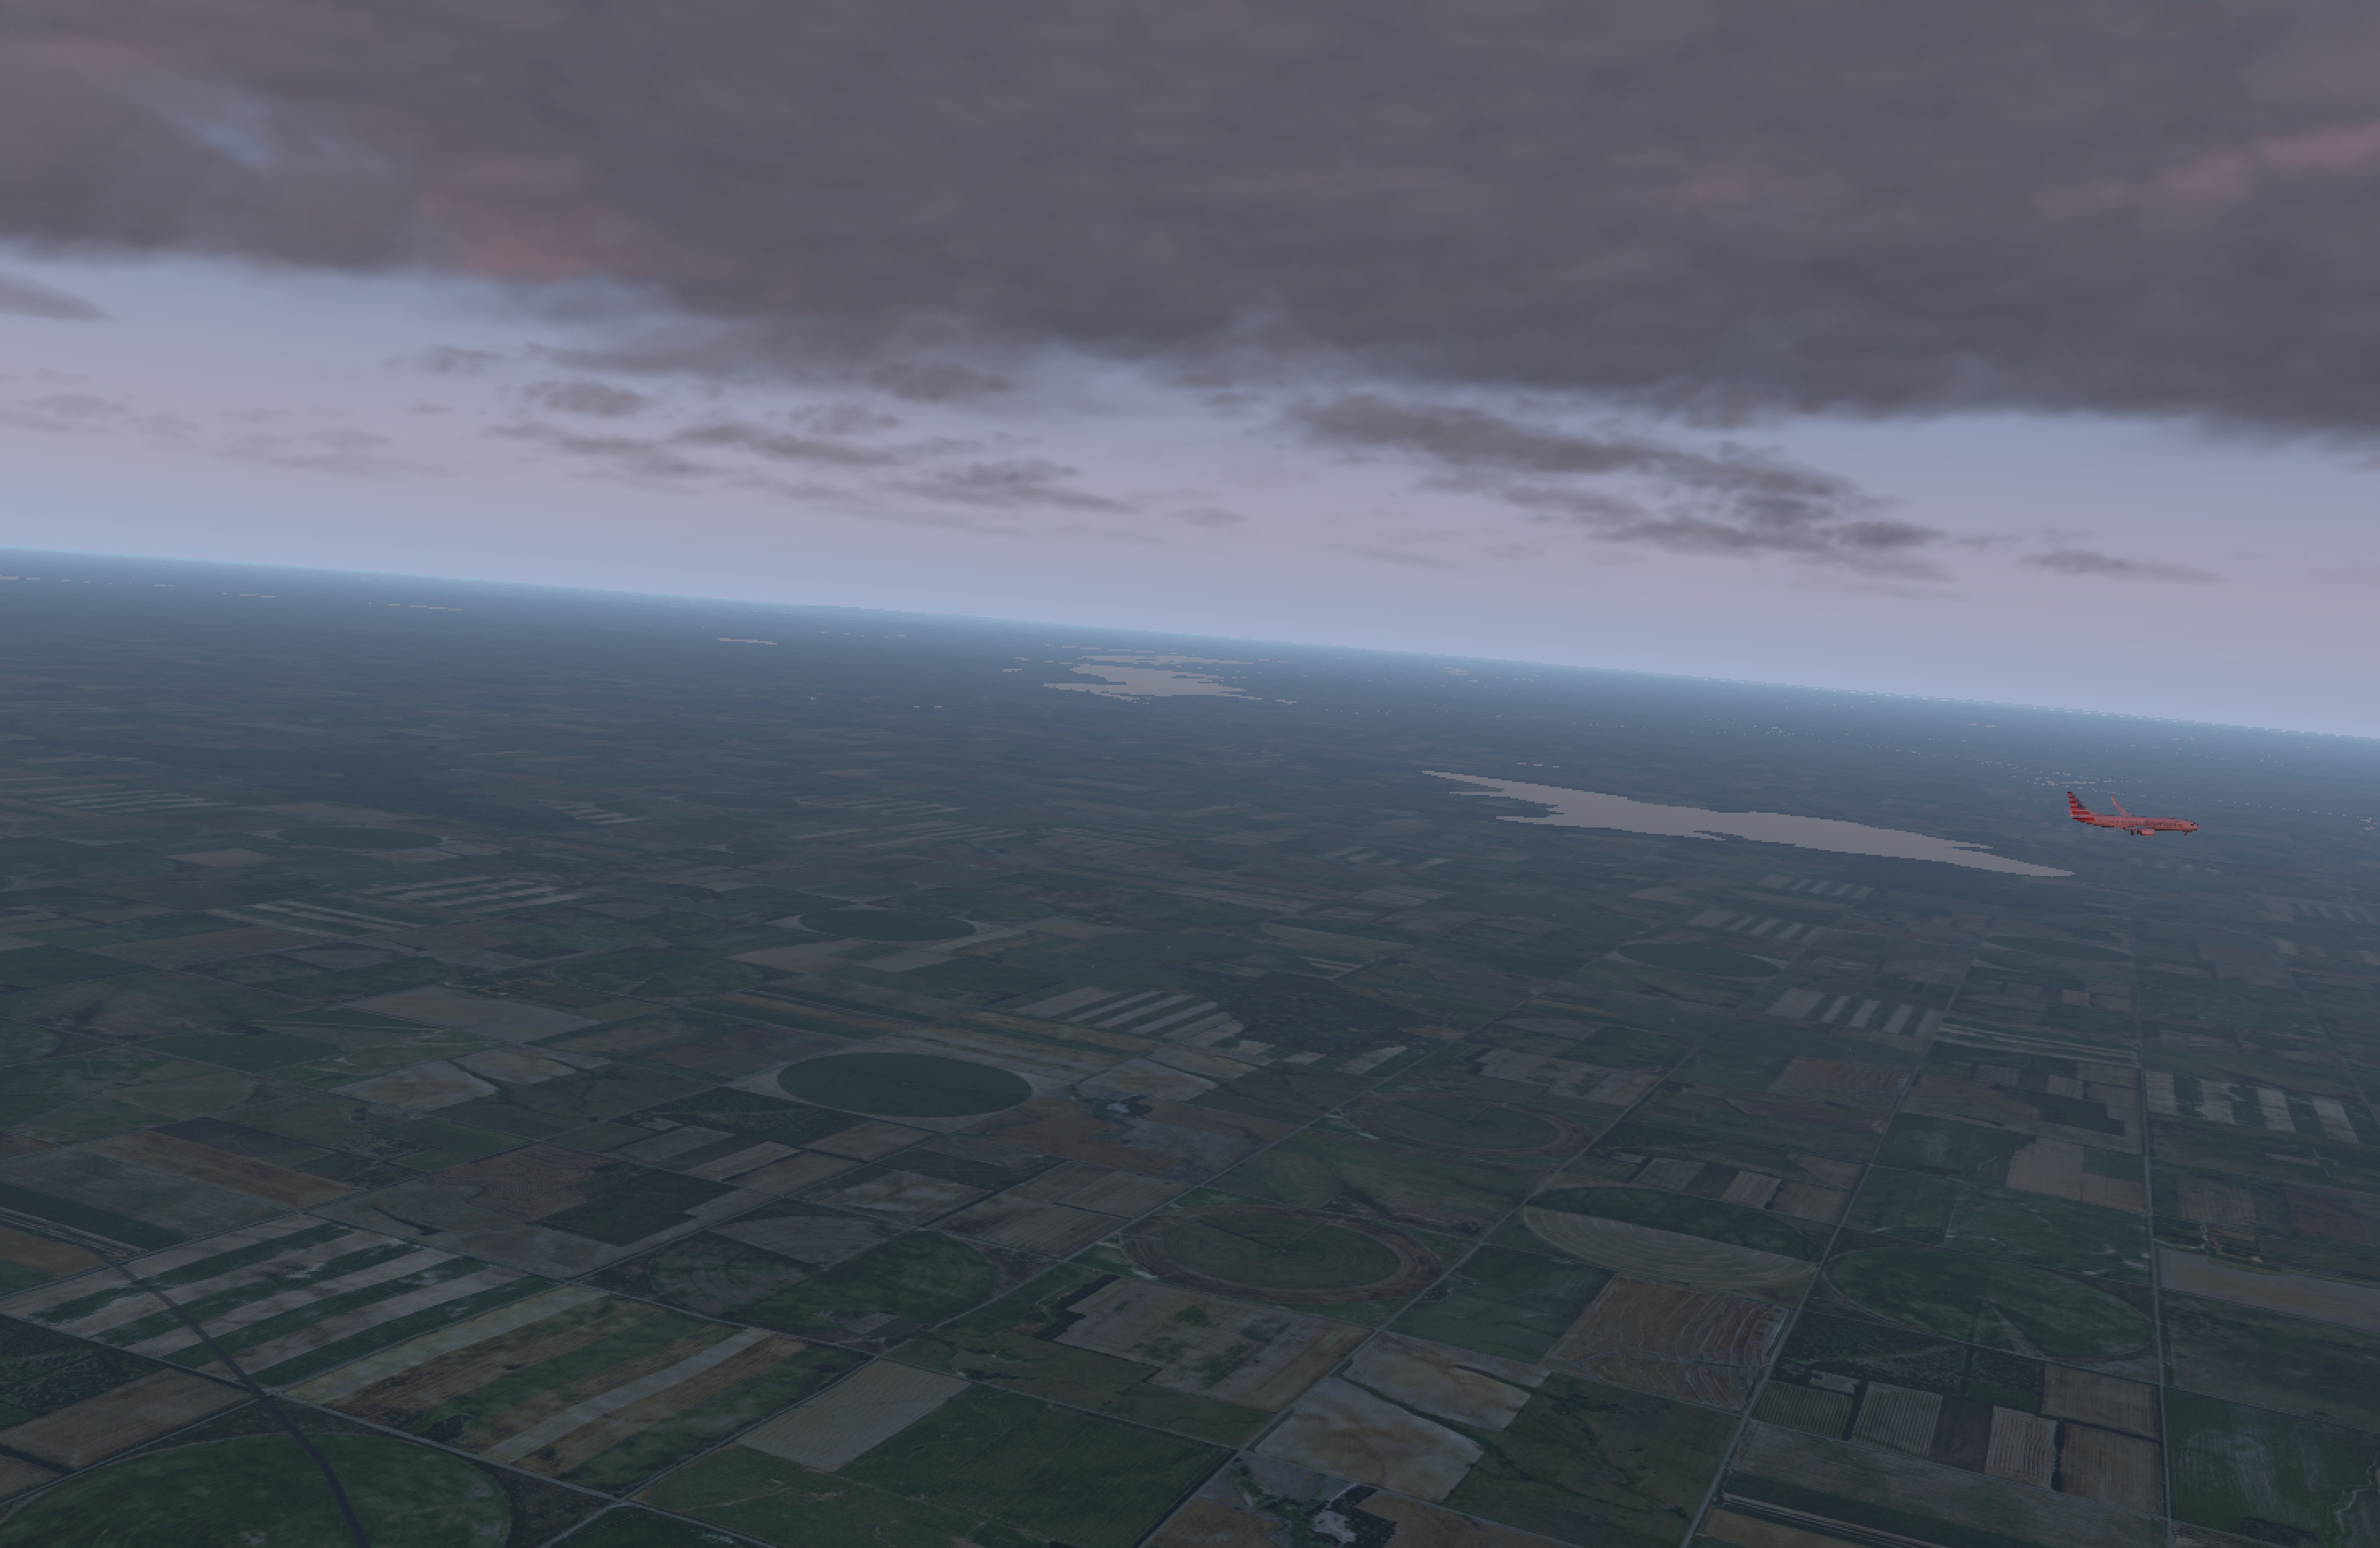aircraft: (2082, 804, 2193, 845)
